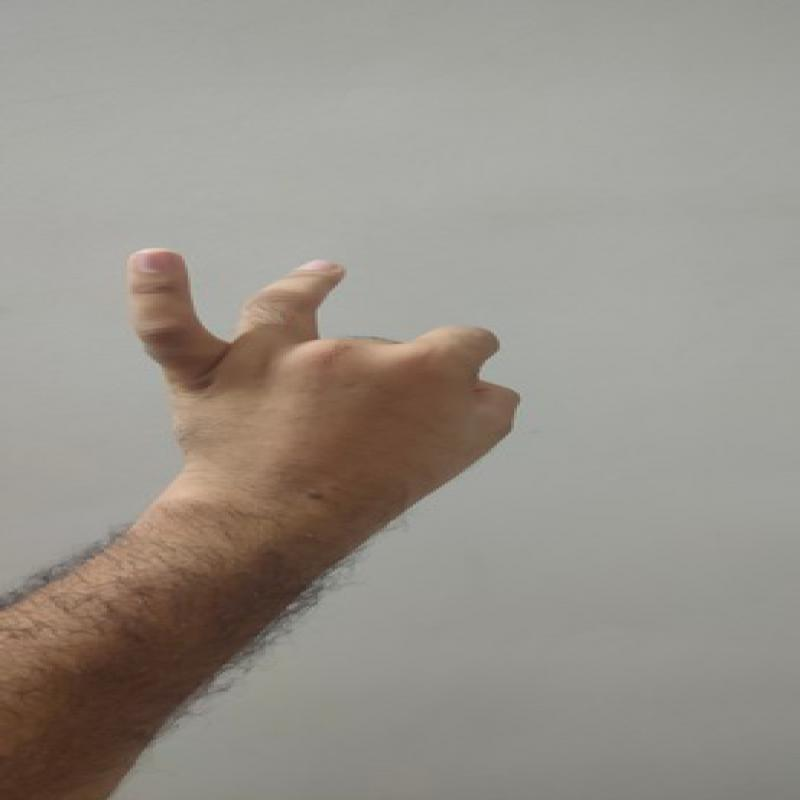Katakam: (113, 230, 527, 511)
